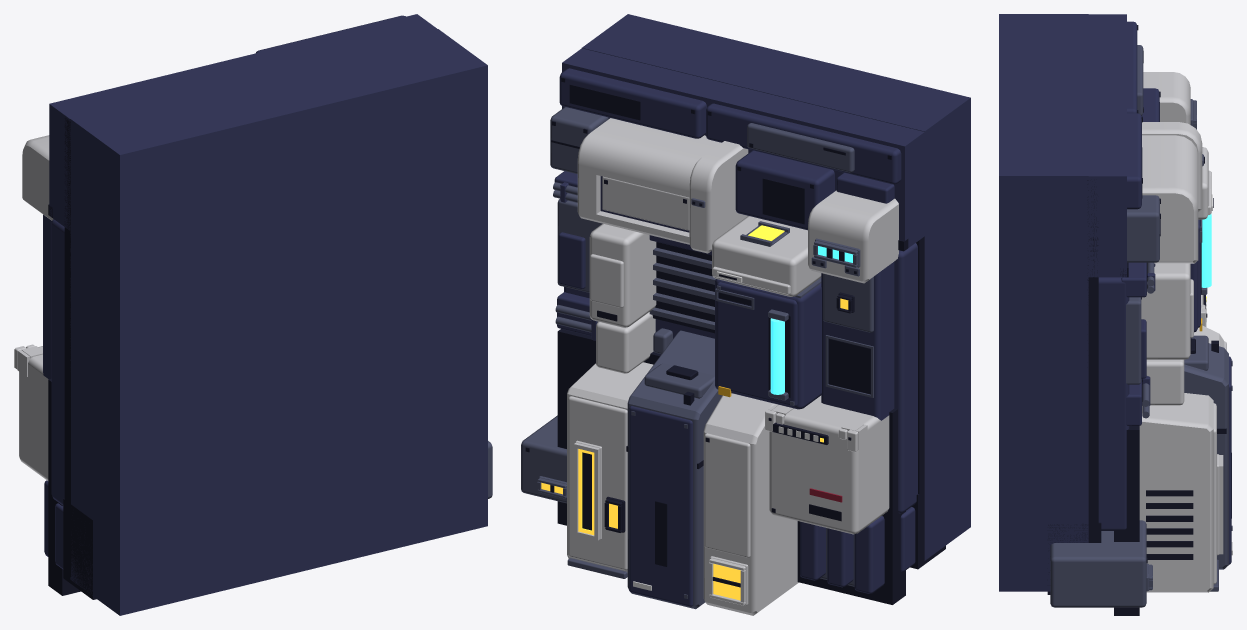
Rendered from hull.bay.cluster.light.none.louvre.w3.000.s0.k-2.35.glb.
3 renders of one model, left to right at view 1: azimuth 30°, elevation 25°; view 2: azimuth 150°, elevation 25°; view 3: azimuth 270°, elevation 25°, orthographic. The views are drawn at different scales.
Visible parts, largest first — view 1: hull.bay.cluster.light.none.louvre.w3.000.s0.k-2.35; view 2: hull.bay.cluster.light.none.louvre.w3.000.s0.k-2.35; view 3: hull.bay.cluster.light.none.louvre.w3.000.s0.k-2.35.
Boxes of the visible parts, <box> form: hull.bay.cluster.light.none.louvre.w3.000.s0.k-2.35: <box>14,14,492,615</box>; hull.bay.cluster.light.none.louvre.w3.000.s0.k-2.35: <box>521,14,970,615</box>; hull.bay.cluster.light.none.louvre.w3.000.s0.k-2.35: <box>999,14,1232,615</box>.
Bounding box in the file's own units: 3.29 × 3.89 × 1.83.
